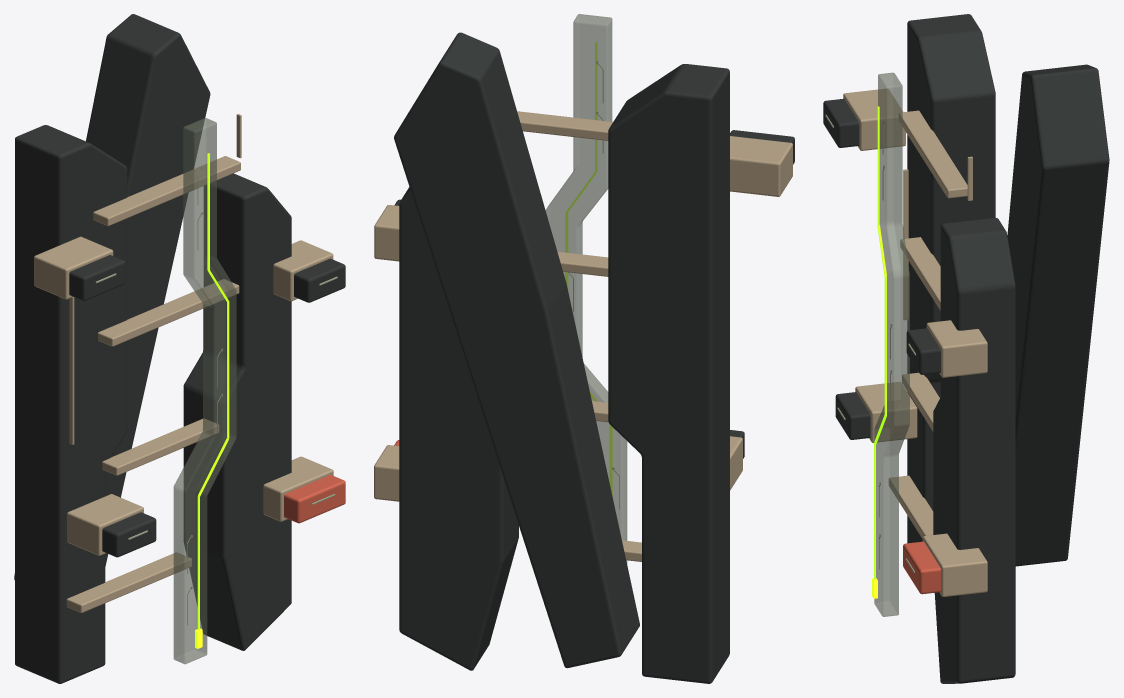
The model's file is nexara-signal-loom.glb.
The picture shows the model from 3 angles, left to right: view 1: azimuth 30°, elevation 25°; view 2: azimuth 150°, elevation 25°; view 3: azimuth 270°, elevation 25°; orthographic projection. The views are drawn at different scales.
Visible parts, largest first — view 1: Loom | Graphite ceramic, Loom | Warm brushed titanium, Loom | Smoked glass ribbon, Loom | Coral human layer, Loom | Lime signal emission, Loom | Etched internal conductors; view 2: Loom | Graphite ceramic, Loom | Smoked glass ribbon, Loom | Warm brushed titanium, Loom | Lime signal emission; view 3: Loom | Graphite ceramic, Loom | Warm brushed titanium, Loom | Smoked glass ribbon, Loom | Coral human layer, Loom | Lime signal emission.
Boxes of the visible parts, x1,y1,x2,y2 form: Loom | Graphite ceramic: [14, 14, 345, 683]; Loom | Warm brushed titanium: [34, 114, 333, 612]; Loom | Smoked glass ribbon: [173, 118, 236, 664]; Loom | Coral human layer: [284, 475, 345, 523]; Loom | Lime signal emission: [197, 153, 229, 629]; Loom | Etched internal conductors: [95, 166, 337, 624]; Loom | Graphite ceramic: [394, 32, 794, 683]; Loom | Smoked glass ribbon: [545, 14, 627, 563]; Loom | Warm brushed titanium: [374, 111, 792, 561]; Loom | Lime signal emission: [565, 42, 612, 494]; Loom | Graphite ceramic: [823, 14, 1109, 683]; Loom | Warm brushed titanium: [843, 88, 987, 596]; Loom | Smoked glass ribbon: [874, 72, 909, 616]; Loom | Coral human layer: [903, 541, 940, 594]; Loom | Lime signal emission: [874, 106, 886, 579].
Size of the model in its own units: 0.6035 by 1.04 by 0.4496.
